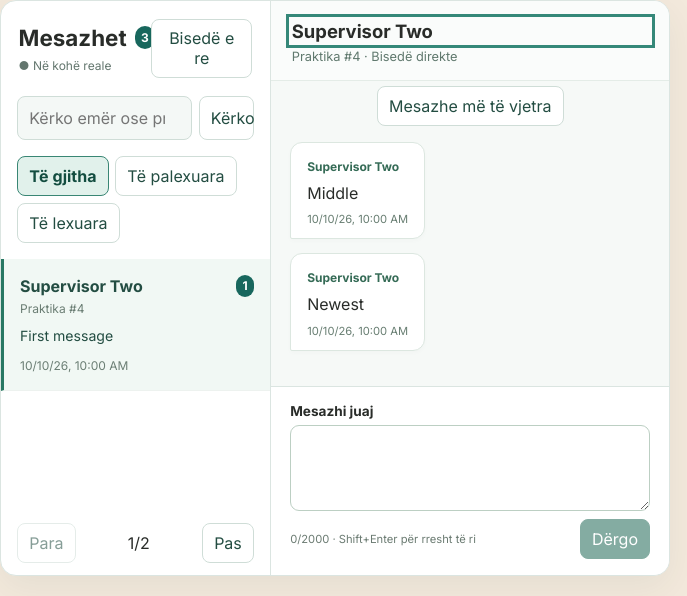
Scenario: loads older cursor pages and preserves chronological duplicate-free history
(page scrolled)
Expected: the text "Newest" is shown, left=307, top=294, right=364, bottom=314
What coordinates should you click on to do the following:
click the button "Mesazhe më të vjetra"
I would click on:
 (470, 106)
Its box is left=377, top=86, right=564, bottom=126.
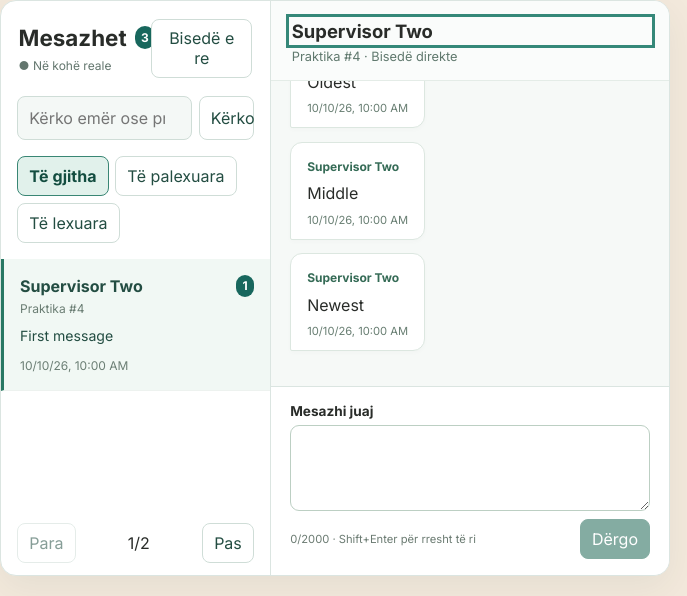
Result: the text "Middle" is shown once at left=307, top=183, right=358, bottom=203
